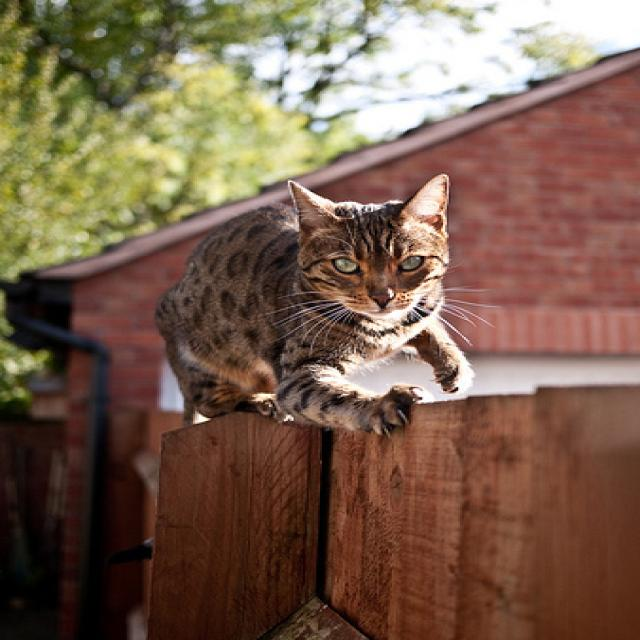Bengal: (148, 161, 494, 459)
